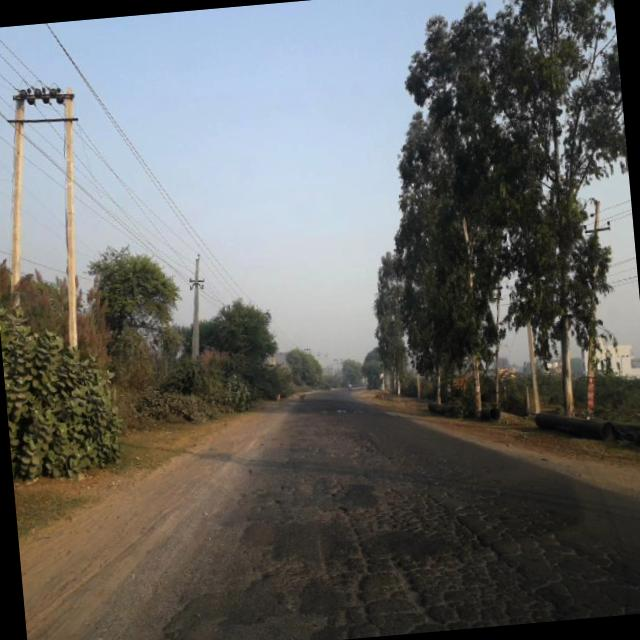crack: (137, 423, 640, 640)
